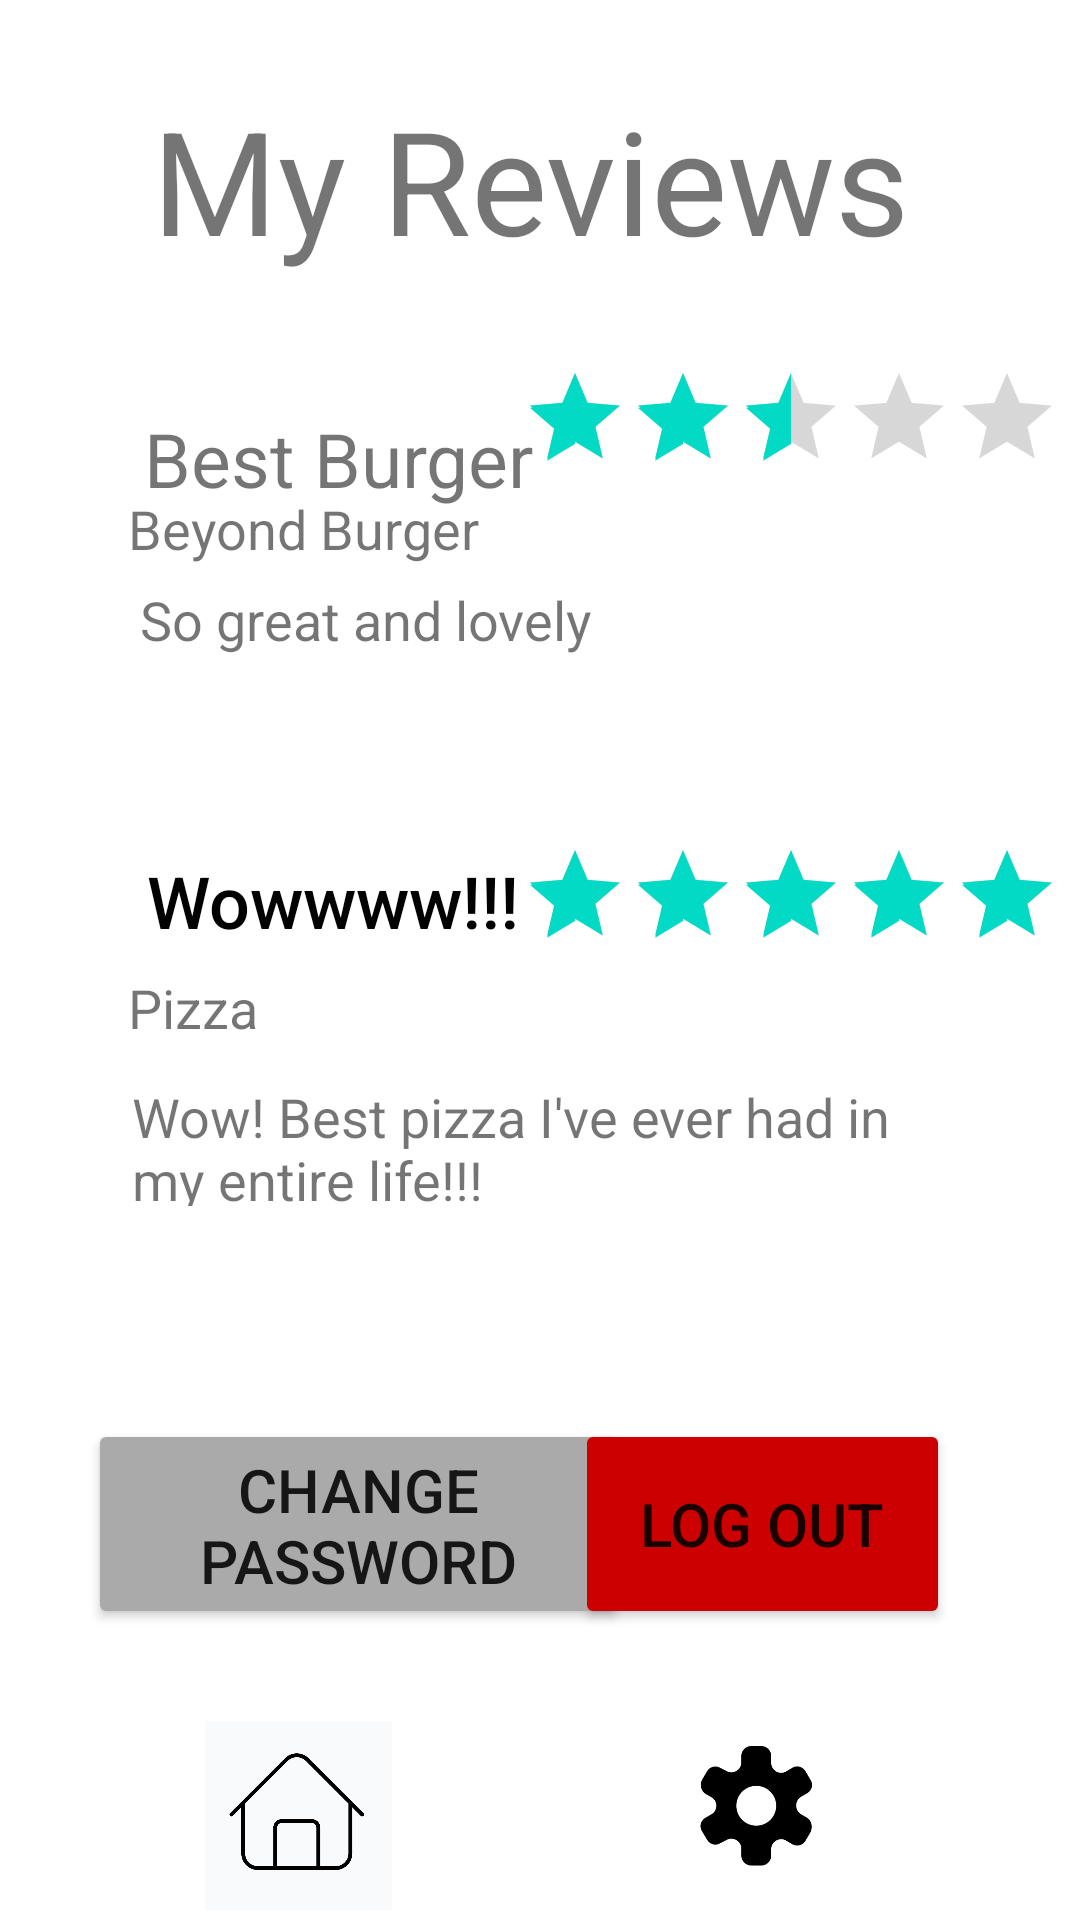

Locate icon controls on the screen. Image size 1080*1920, boxes as (x1=x1, y1=y1, x2=x2, y2=y2).
home: (x1=229, y1=1753, x2=364, y2=1870)
settings: (x1=700, y1=1746, x2=812, y2=1866)
